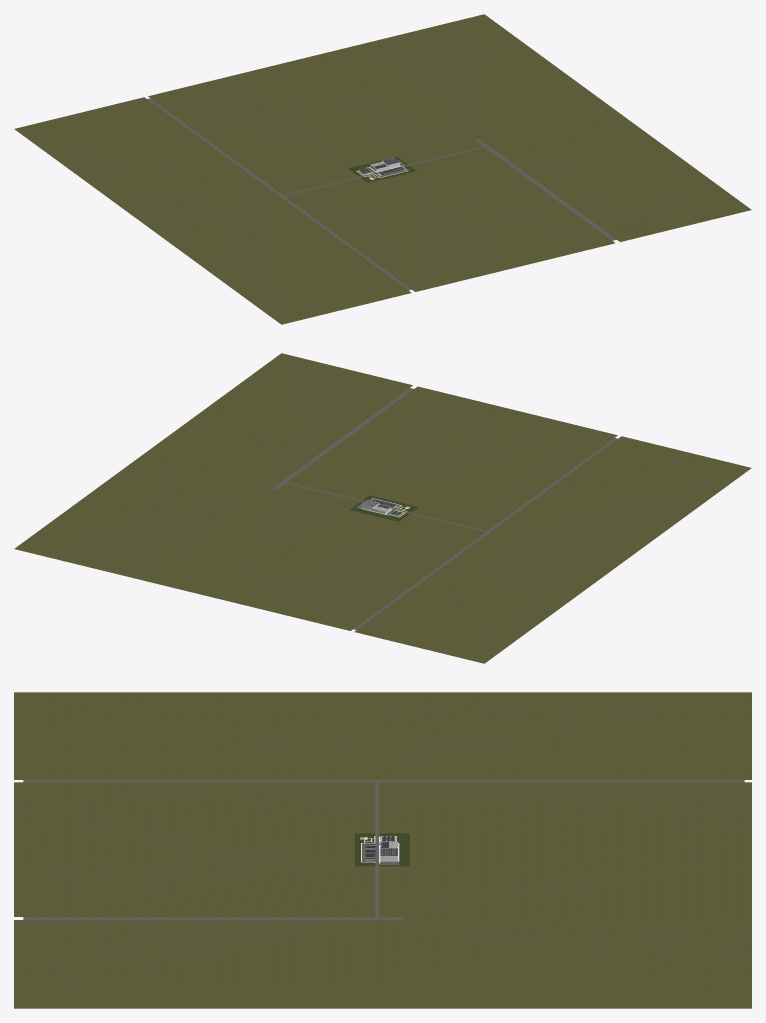
The model's file is scene1_small.glb.
3 renders of one model, top to bottom at view 1: azimuth 30°, elevation 25°; view 2: azimuth 150°, elevation 25°; view 3: azimuth 270°, elevation 25°, orthographic. The views are drawn at different scales.
Bounding box in the file's own units: 297 × 2.52 × 292.
27 materials, 14 textured.
